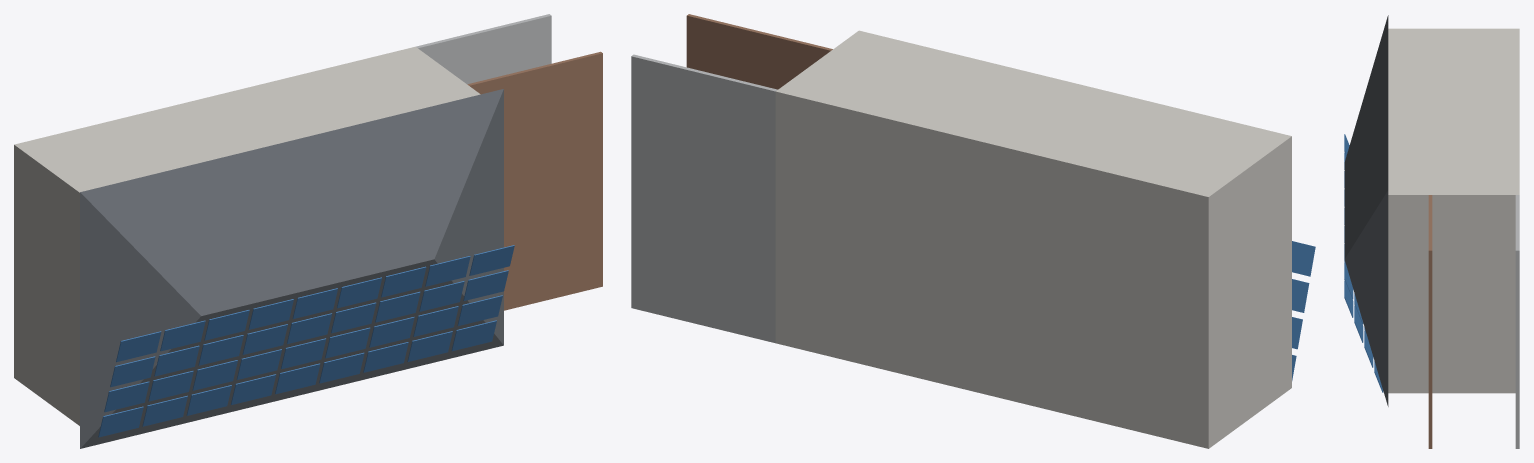
Rendered from generated_edc7170797.glb.
3 renders of one model, left to right at view 1: azimuth 30°, elevation 25°; view 2: azimuth 150°, elevation 25°; view 3: azimuth 270°, elevation 25°, orthographic. The views are drawn at different scales.
Visible parts, largest first — view 1: hip_roof, house_body, front_porch_roof, front_porch_slab, solar_panel_1, solar_panel_2, solar_panel_9, solar_panel_11, solar_panel_14, solar_panel_19, solar_panel_20, solar_panel_26 (+28 smaller); view 2: house_body, front_porch_slab, front_porch_roof, solar_panel_27; view 3: house_body, hip_roof, front_porch_slab, front_porch_roof, solar_panel_35, solar_panel_26.
Boxes of the visible parts, bbox=[...] form: hip_roof: bbox=[80, 89, 503, 448]; house_body: bbox=[14, 46, 480, 425]; front_porch_roof: bbox=[467, 51, 602, 310]; front_porch_slab: bbox=[416, 14, 551, 84]; solar_panel_1: bbox=[142, 395, 187, 426]; solar_panel_2: bbox=[186, 385, 231, 415]; solar_panel_9: bbox=[104, 381, 149, 412]; solar_panel_11: bbox=[192, 360, 237, 390]; solar_panel_14: bbox=[325, 327, 370, 358]; solar_panel_19: bbox=[154, 345, 199, 376]; solar_panel_20: bbox=[198, 335, 243, 365]; solar_panel_26: bbox=[463, 270, 508, 300]; house_body: bbox=[775, 30, 1291, 448]; front_porch_slab: bbox=[631, 54, 777, 343]; front_porch_roof: bbox=[686, 14, 832, 89]; solar_panel_27: bbox=[1292, 241, 1315, 276]; house_body: bbox=[1388, 28, 1519, 393]; hip_roof: bbox=[1344, 15, 1388, 406]; front_porch_slab: bbox=[1515, 195, 1519, 448]; front_porch_roof: bbox=[1428, 195, 1432, 448]; solar_panel_35: bbox=[1344, 280, 1353, 317]; solar_panel_26: bbox=[1354, 305, 1363, 342].
Size of the model in its own units: 24.5 by 11 by 8.02.
